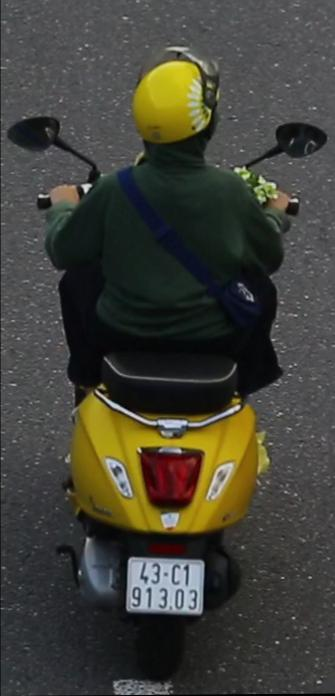LP: (124, 554, 209, 623)
helmet: (129, 40, 224, 176)
